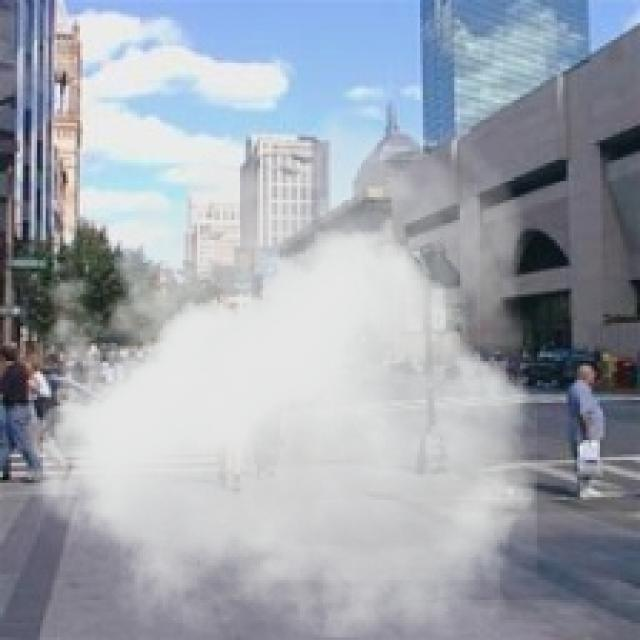Smoke: (11, 85, 538, 638)
